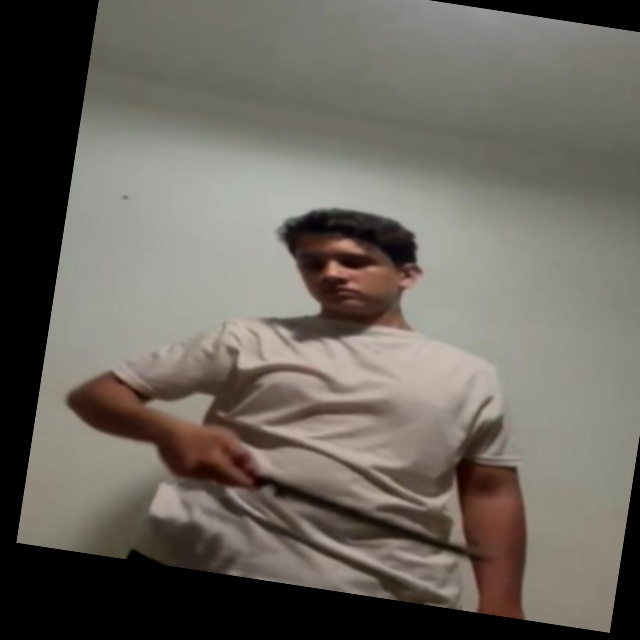Sharp-Object: (267, 483, 491, 558)
